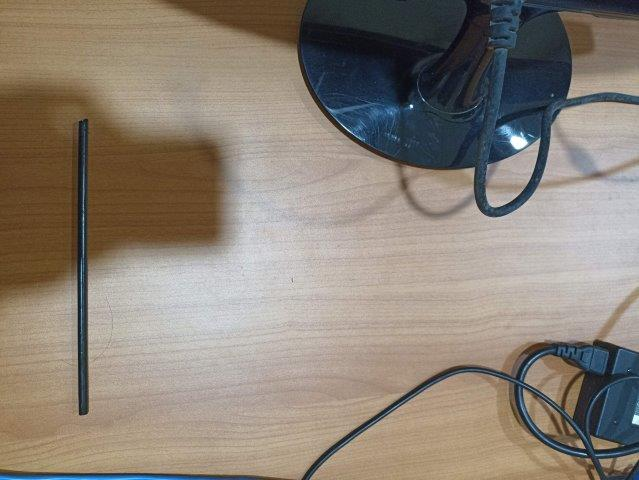sedotan: (77, 120, 89, 414)
